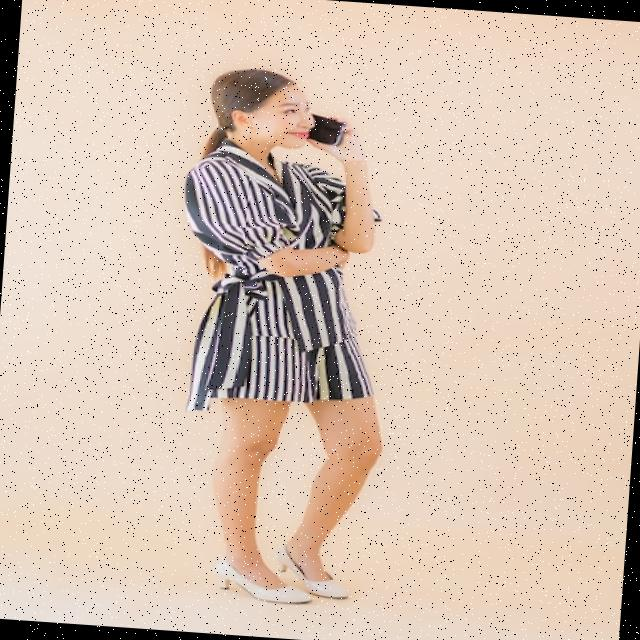Person: (157, 66, 407, 610)
